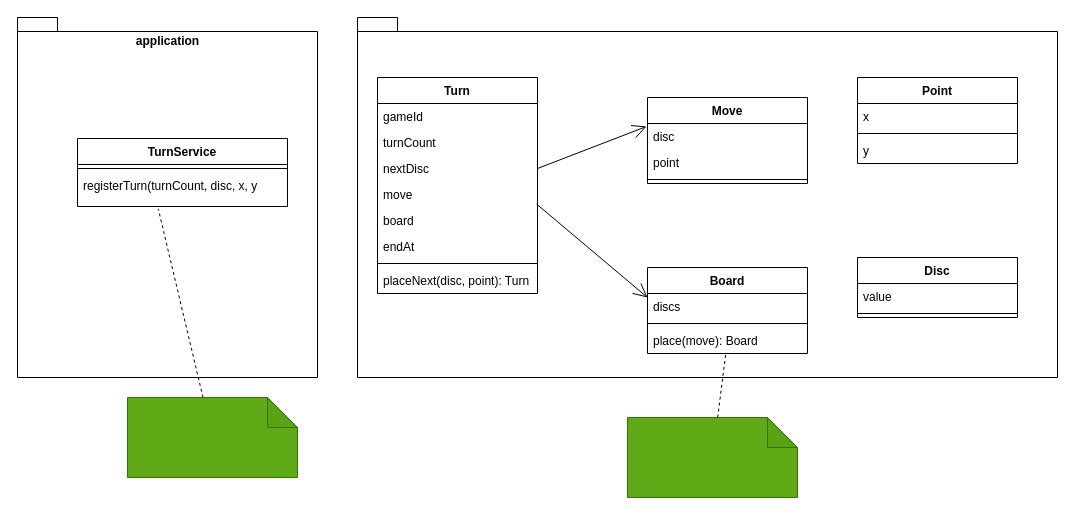
Image size: 1075x515. Some labels were removed from this diagram. Here are the shapes that lost their labels. From the top down, the box of each, then its label:
(356, 16, 1058, 378): domain
(126, 396, 298, 478): ・一つ前のターンを取得する ・ターンを保存する
(626, 416, 798, 498): placeの内部では ・盤面におけるかチェック ・石を置く ・ひっくり返す
